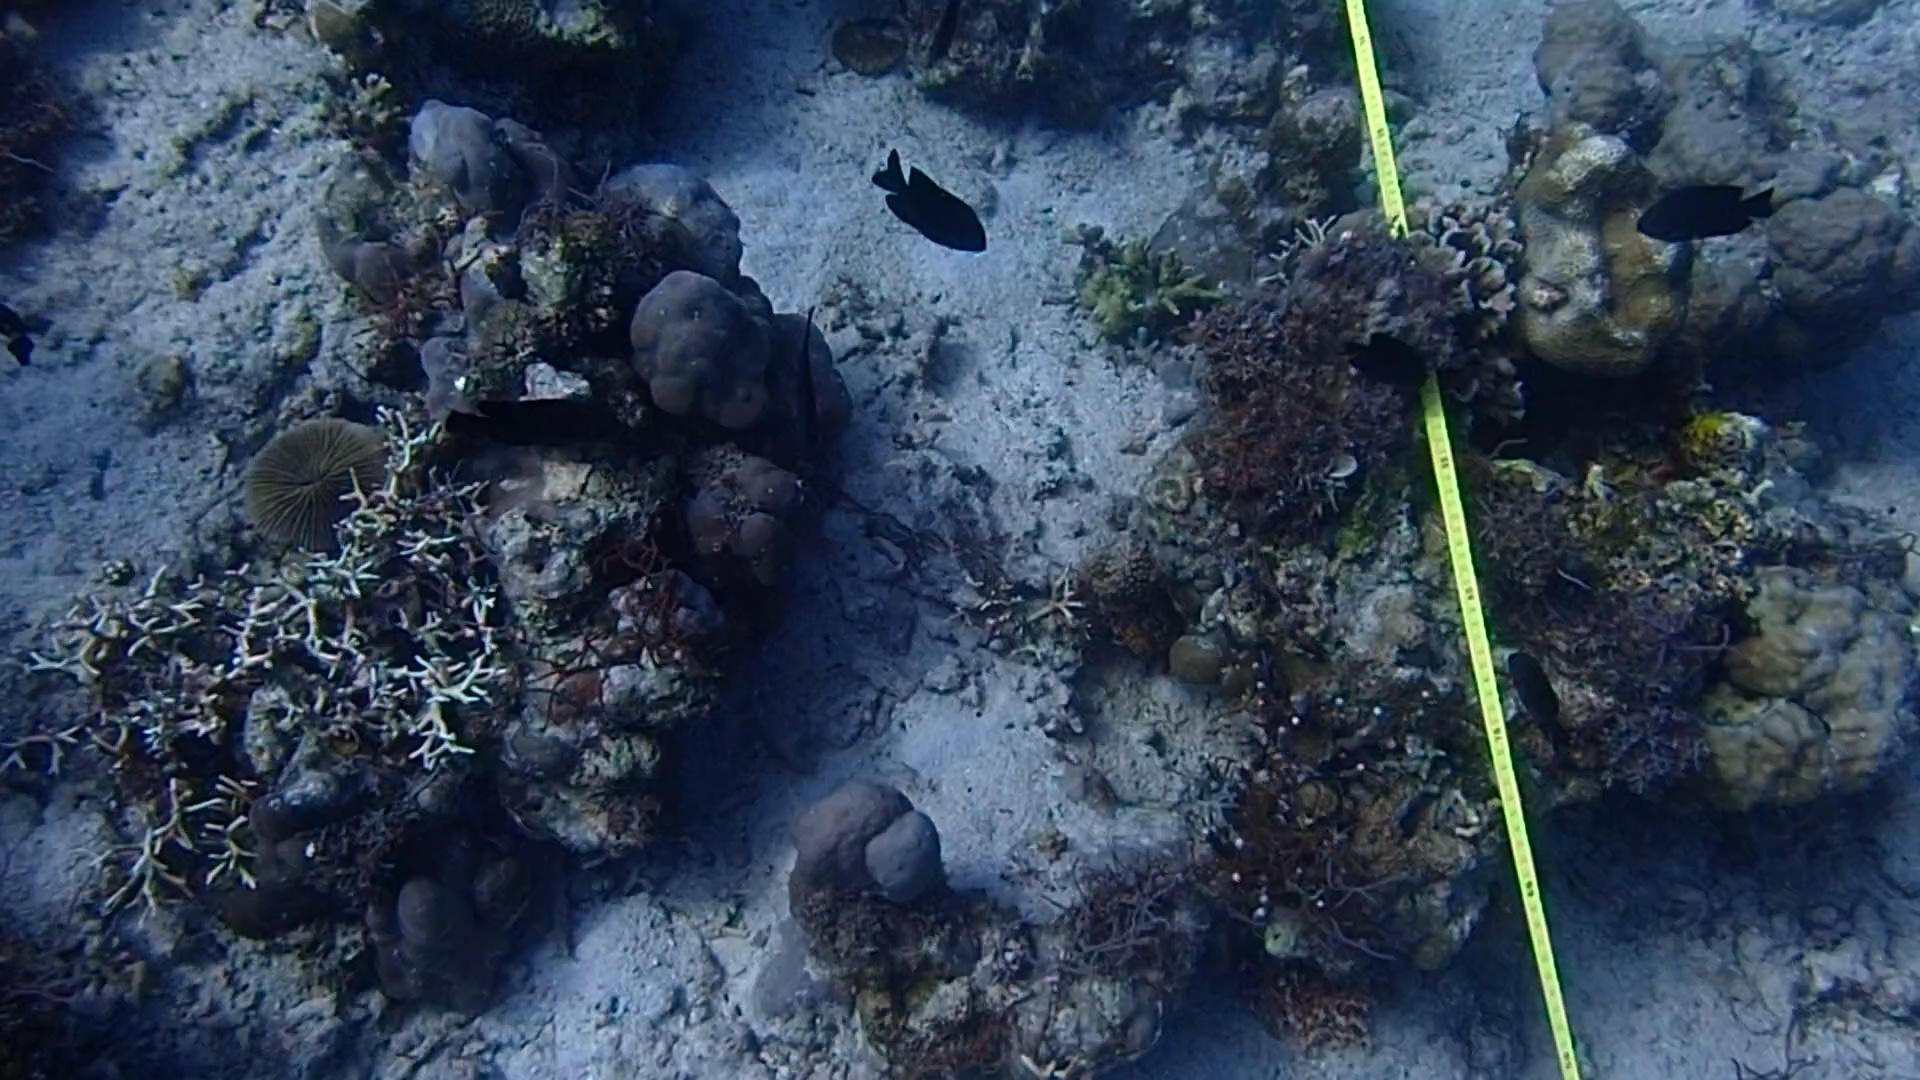Dark Fish: (845, 123, 1000, 261), (446, 393, 618, 469), (1495, 644, 1592, 775), (1633, 173, 1791, 249), (781, 298, 837, 488), (1328, 326, 1445, 404)
